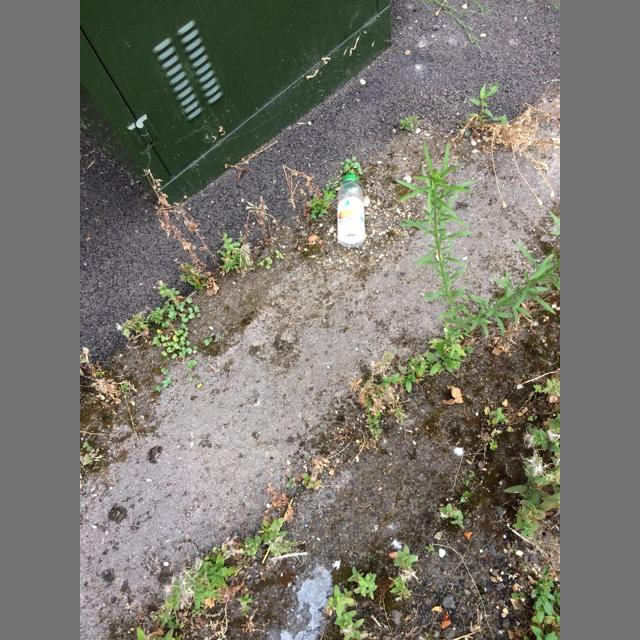litter: (337, 174, 365, 248)
